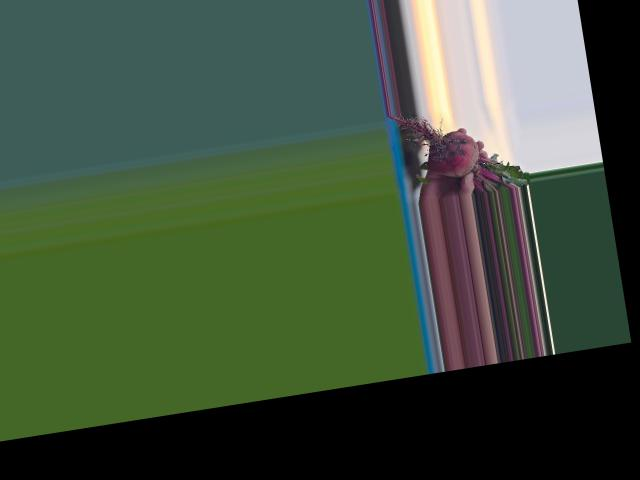beet: (388, 95, 530, 205)
